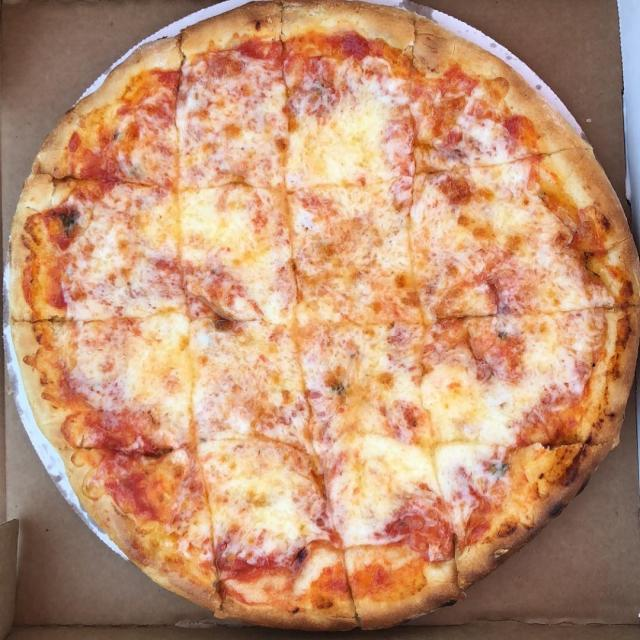pizza: (0, 0, 632, 633)
